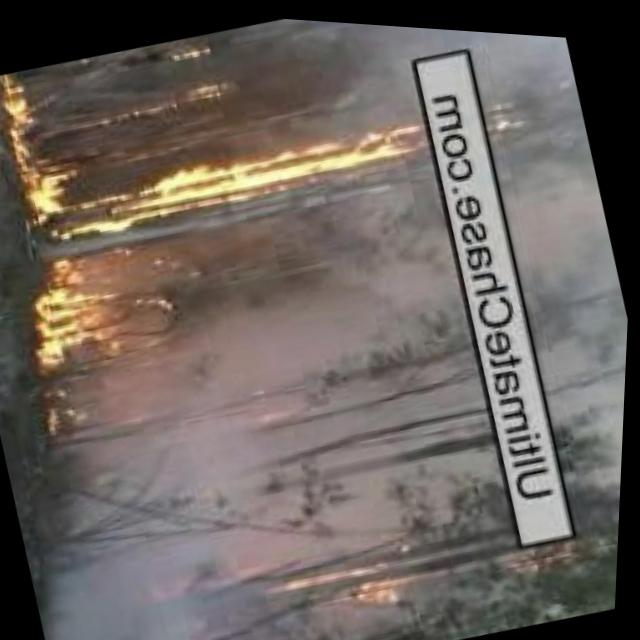Fire: (109, 77, 475, 247), (0, 50, 171, 390), (274, 539, 423, 625), (127, 68, 239, 123), (515, 521, 599, 577), (143, 31, 213, 69)
